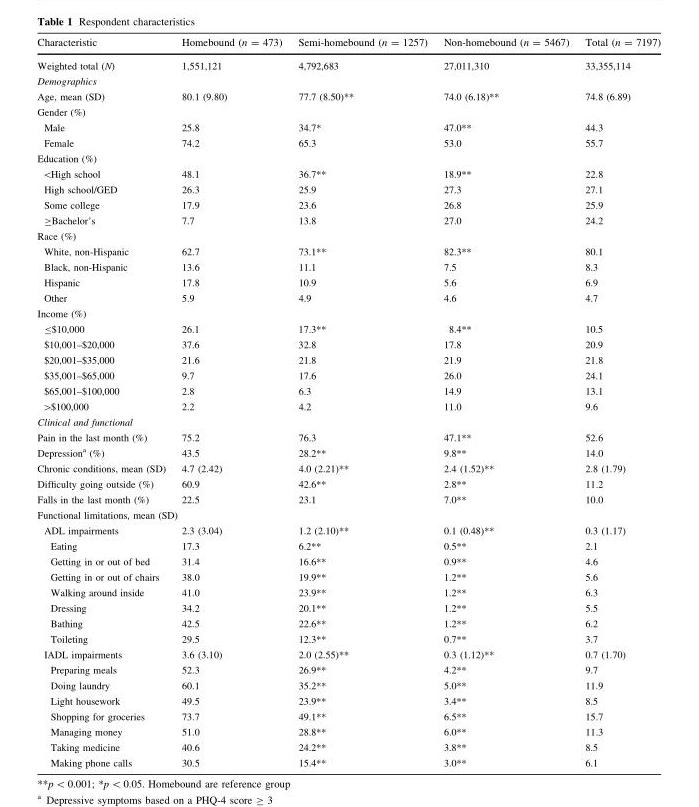table: (36, 37, 660, 767)
table column: (289, 37, 434, 767), (434, 37, 576, 767), (36, 37, 172, 767), (172, 37, 289, 767), (576, 37, 660, 767)
table column header: (36, 37, 660, 54)
table projected row header: (36, 305, 660, 321), (36, 73, 660, 88), (36, 104, 660, 119), (36, 150, 660, 165), (36, 228, 660, 243), (36, 414, 660, 429), (36, 507, 660, 522)
table row: (36, 54, 660, 73), (36, 37, 660, 54), (36, 165, 660, 182), (36, 88, 660, 104), (36, 119, 660, 135), (36, 212, 660, 228), (36, 243, 660, 259), (36, 274, 660, 290), (36, 305, 660, 321), (36, 336, 660, 352), (36, 367, 660, 383), (36, 398, 660, 414), (36, 444, 660, 460), (36, 460, 660, 476), (36, 491, 660, 507), (36, 522, 660, 538), (36, 553, 660, 569), (36, 584, 660, 600), (36, 615, 660, 631), (36, 646, 660, 662), (36, 677, 660, 693), (36, 708, 660, 724), (36, 739, 660, 755), (36, 73, 660, 88), (36, 104, 660, 119), (36, 135, 660, 150), (36, 150, 660, 165), (36, 182, 660, 197), (36, 197, 660, 212), (36, 228, 660, 243), (36, 259, 660, 274), (36, 290, 660, 305), (36, 321, 660, 336), (36, 352, 660, 367), (36, 383, 660, 398), (36, 414, 660, 429), (36, 429, 660, 444), (36, 476, 660, 491), (36, 507, 660, 522), (36, 538, 660, 553), (36, 569, 660, 584), (36, 600, 660, 615), (36, 631, 660, 646), (36, 662, 660, 677), (36, 693, 660, 708), (36, 724, 660, 739), (36, 755, 660, 767)
